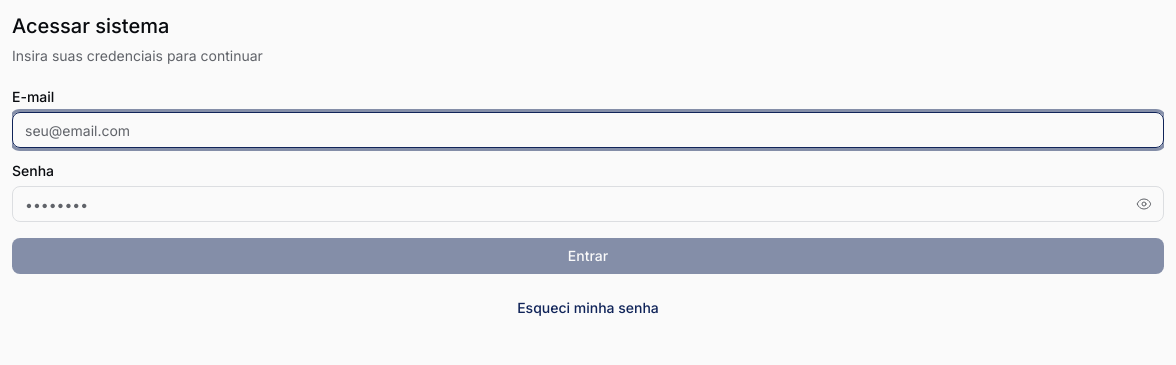
Scenario: LoginForm › shows validation error when email is invalid on blur
Type "invalido" into the field labelled "E-mail".
click(588, 130); type("invalido")  # box 12,112 -> 1164,148
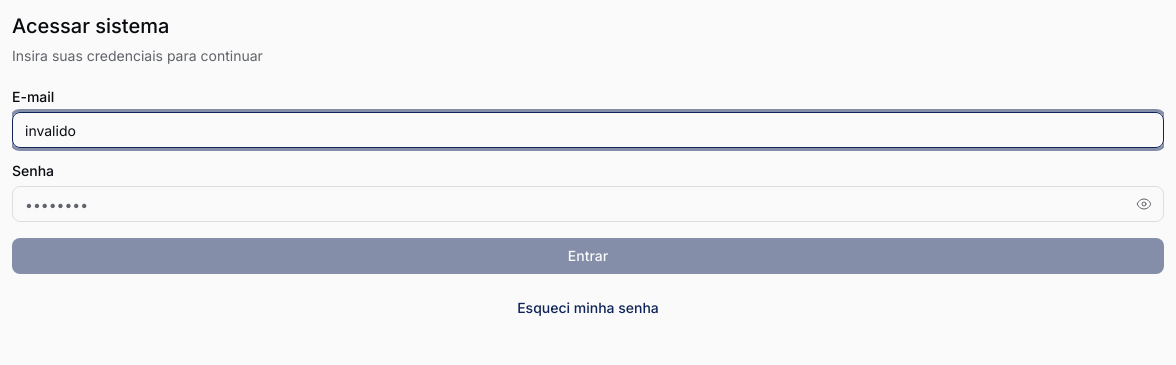
Press Tab
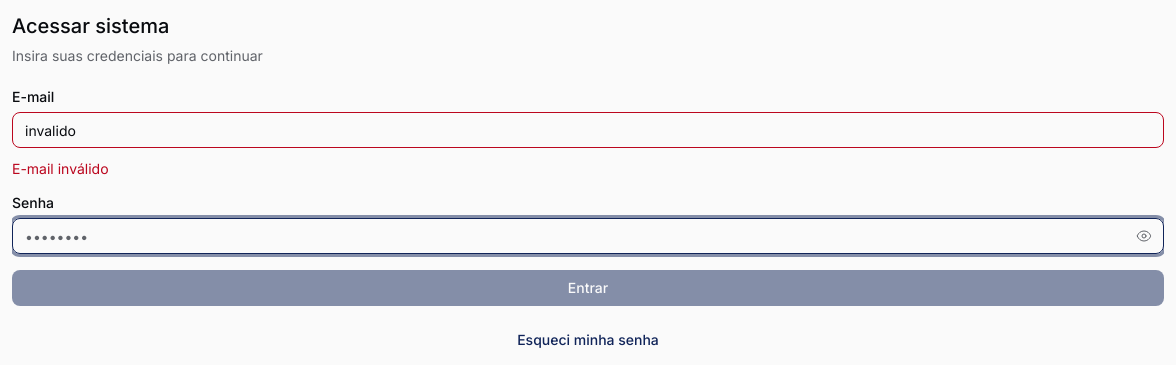
Result: the text "E-mail inválido" is shown at 12,160 -> 109,177
